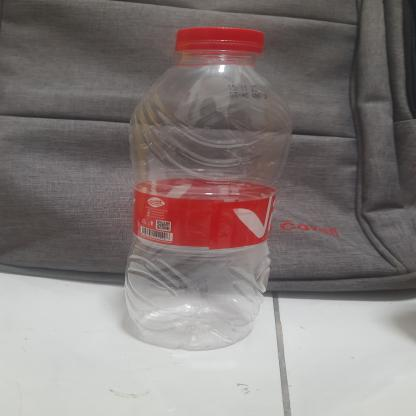plastic: (115, 23, 296, 353)
